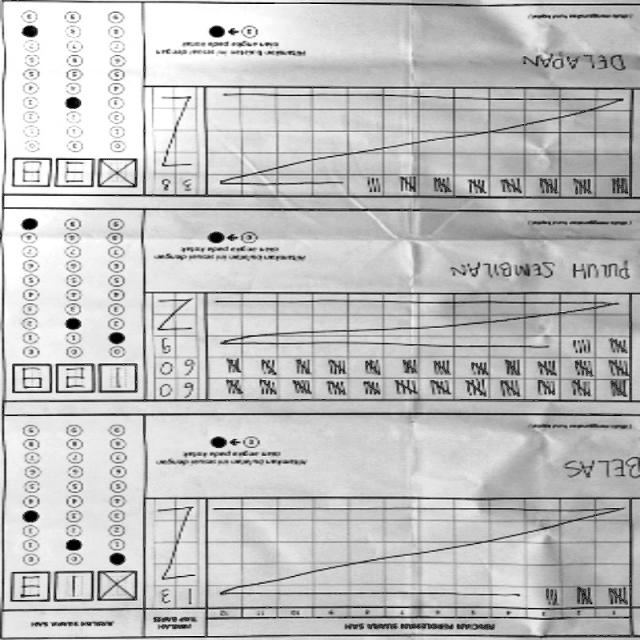Suara: (7, 359, 145, 399), (8, 154, 146, 194), (6, 567, 143, 607)
